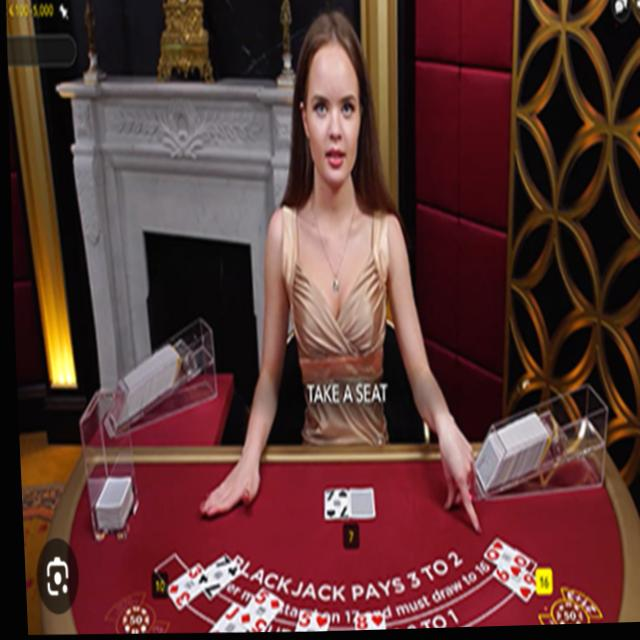Card-3: (160, 563, 199, 610)
Card-5: (231, 588, 278, 633), (289, 610, 323, 632)
Card-6: (486, 569, 532, 605)
Card-7: (189, 553, 237, 599), (320, 490, 345, 519)
Card-8: (350, 615, 379, 632)
Card-J: (202, 603, 241, 633)
Card-Q: (478, 540, 525, 583)
